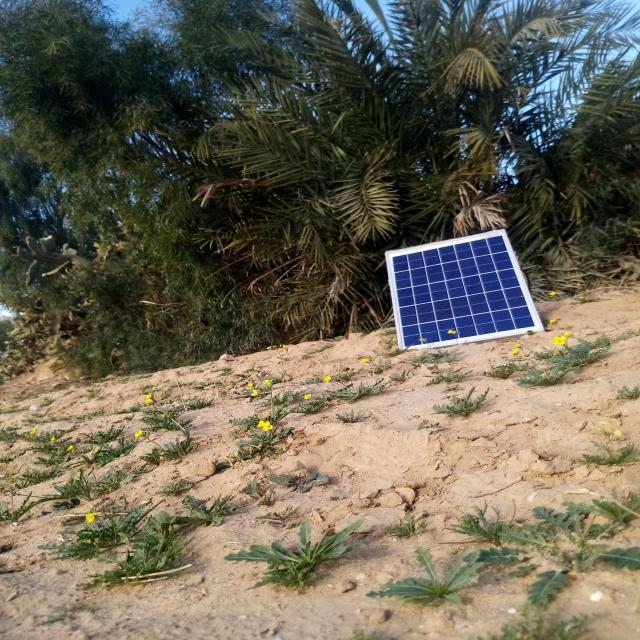no faulty: (387, 230, 542, 349)
